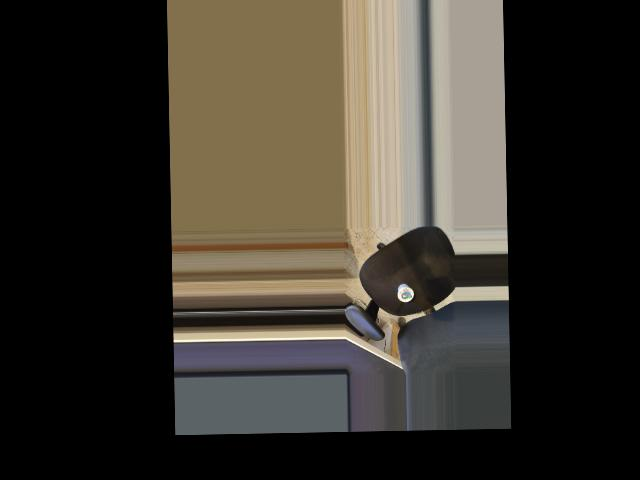cotage: (396, 279, 417, 303)
